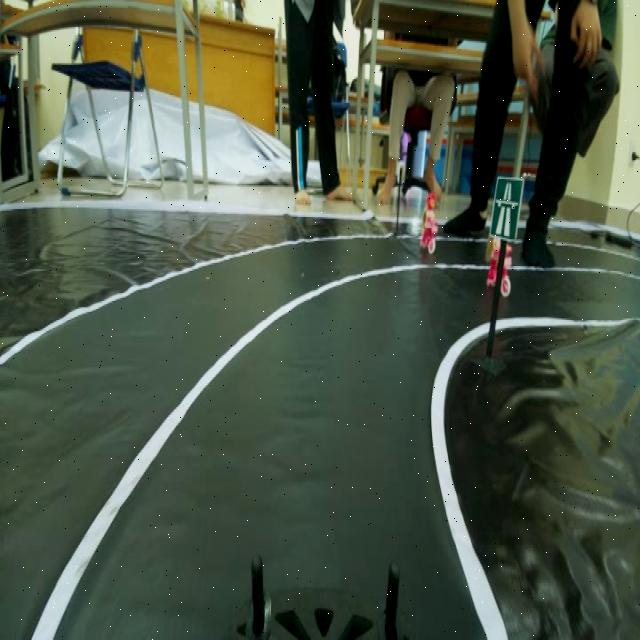highway_exit: (491, 175, 521, 238)
pedestrian: (418, 190, 446, 255), (488, 241, 516, 299)
